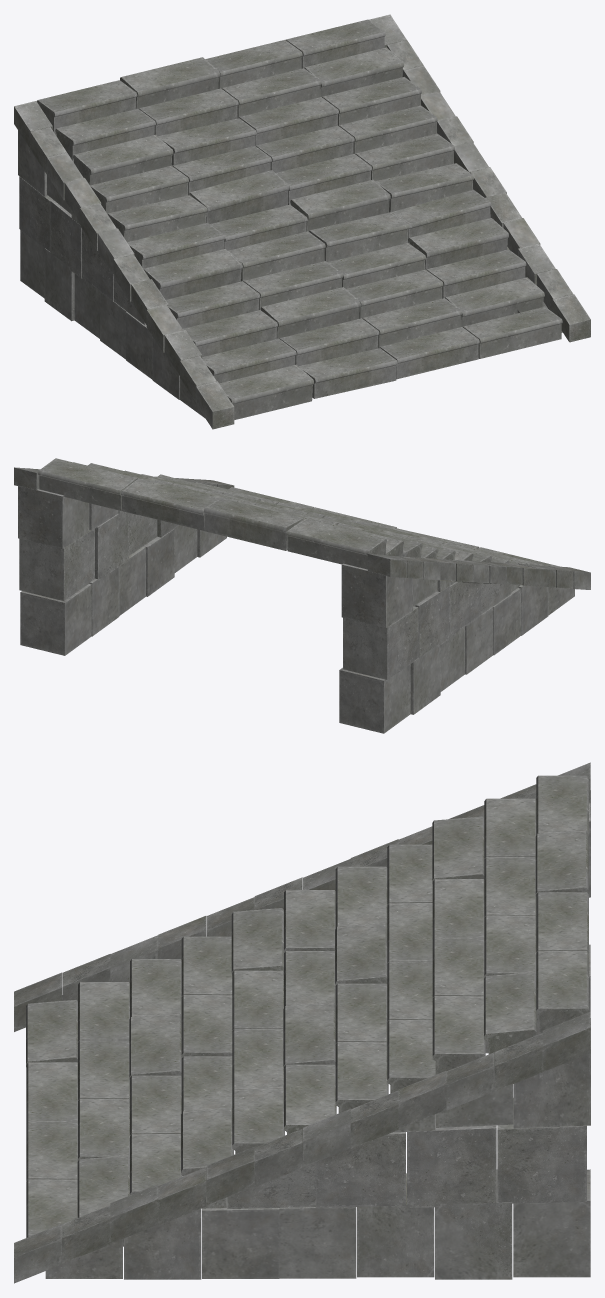
The model's file is SM_stairs_fine_01.fbx.
3 views of the same model, one above another, from view 1: azimuth 30°, elevation 25°; view 2: azimuth 150°, elevation 25°; view 3: azimuth 270°, elevation 25° (orthographic). The views are drawn at different scales.
Parts seen in each view (by area): view 1: DarkFantasyObject080; view 2: DarkFantasyObject080; view 3: DarkFantasyObject080.
Part boxes in pixels (bbox=[...]): DarkFantasyObject080: bbox=[14, 14, 590, 429]; DarkFantasyObject080: bbox=[14, 458, 590, 733]; DarkFantasyObject080: bbox=[14, 762, 590, 1283].
Size of the model in its own units: 216 by 100 by 198.
